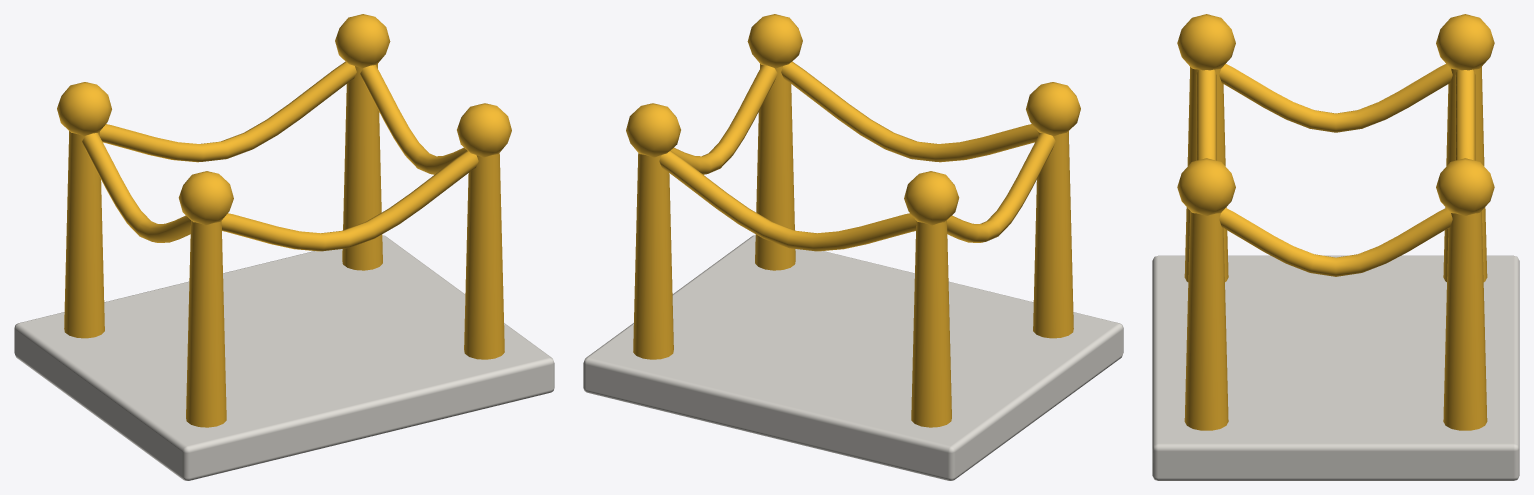
Rendered from mall-queue-barrier.glb.
3 views of the same model, side by side, from view 1: azimuth 30°, elevation 25°; view 2: azimuth 150°, elevation 25°; view 3: azimuth 270°, elevation 25° (orthographic). The views are drawn at different scales.
Visible parts, largest first — view 1: platform, post-3, post-2, post-0, post-1, rope-2, rope-0, rope-3, rope-1, ball-3, ball-0, ball-1 (+1 smaller); view 2: platform, post-0, post-1, post-3, post-2, rope-0, rope-2, rope-3, rope-1, ball-0, ball-3, ball-1 (+1 smaller); view 3: platform, post-1, post-2, rope-3, rope-1, ball-1, ball-2, ball-0, ball-3, post-0, post-3, rope-0 (+1 smaller).
Boxes of the visible parts, box(x1,y1,x2,y2) form: platform: box(14, 235, 554, 480); post-3: box(186, 220, 226, 427); post-2: box(464, 153, 504, 359); post-0: box(64, 131, 104, 338); post-1: box(342, 64, 382, 270); rope-2: box(221, 150, 478, 251); rope-0: box(100, 61, 356, 162); rope-3: box(82, 133, 190, 242); rope-1: box(360, 65, 466, 174); ball-3: box(178, 171, 233, 225); ball-0: box(57, 82, 111, 135); ball-1: box(335, 14, 390, 68); platform: box(583, 235, 1123, 480); post-0: box(911, 220, 951, 427); post-1: box(633, 153, 673, 359); post-3: box(1033, 131, 1073, 338); post-2: box(755, 64, 795, 270); rope-0: box(659, 150, 916, 251); rope-2: box(781, 61, 1037, 162); rope-3: box(947, 133, 1055, 242); rope-1: box(671, 65, 777, 174); ball-0: box(904, 171, 959, 225); ball-3: box(1026, 82, 1080, 135); ball-1: box(626, 103, 680, 157); platform: box(1152, 255, 1519, 480); post-1: box(1443, 211, 1487, 430); post-2: box(1184, 211, 1228, 430); rope-3: box(1219, 64, 1452, 132); rope-1: box(1219, 208, 1452, 276); ball-1: box(1436, 158, 1494, 215); ball-2: box(1177, 158, 1235, 215); ball-0: box(1436, 14, 1494, 70); ball-3: box(1177, 14, 1235, 70); post-0: box(1443, 67, 1487, 281); post-3: box(1184, 67, 1228, 281); rope-0: box(1455, 69, 1475, 160).
Bounding box in the file's own units: 1.55 × 1.12 × 1.25.
